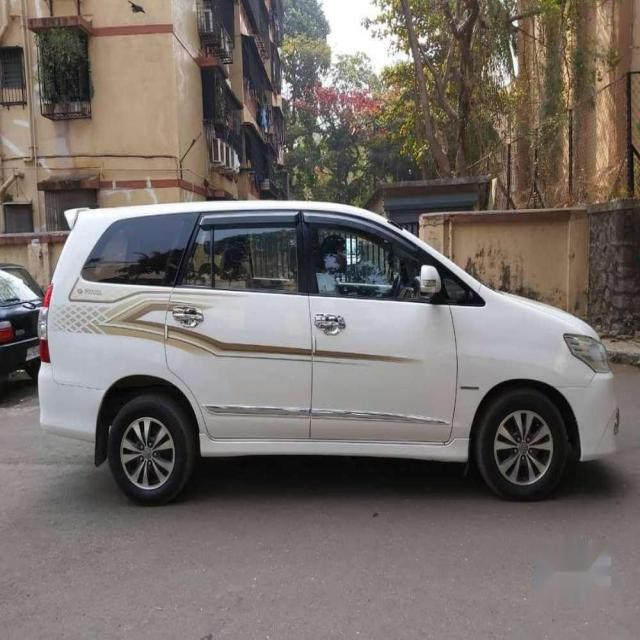light_vehicle: (37, 200, 621, 507)
